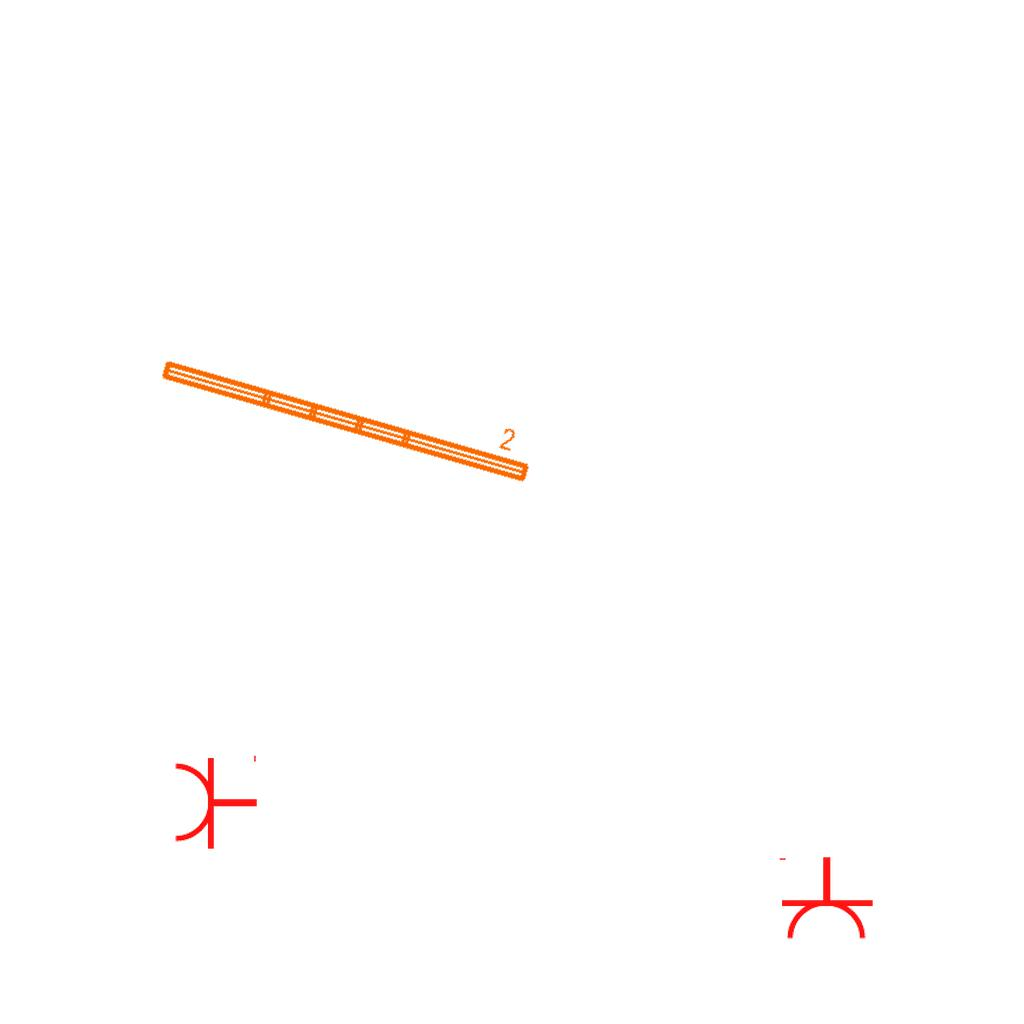Ambulanz_Pendelleuchte_LED: (154, 328, 543, 490)
Schukosteckdose_einfach: (172, 751, 259, 851), (775, 855, 875, 942)
